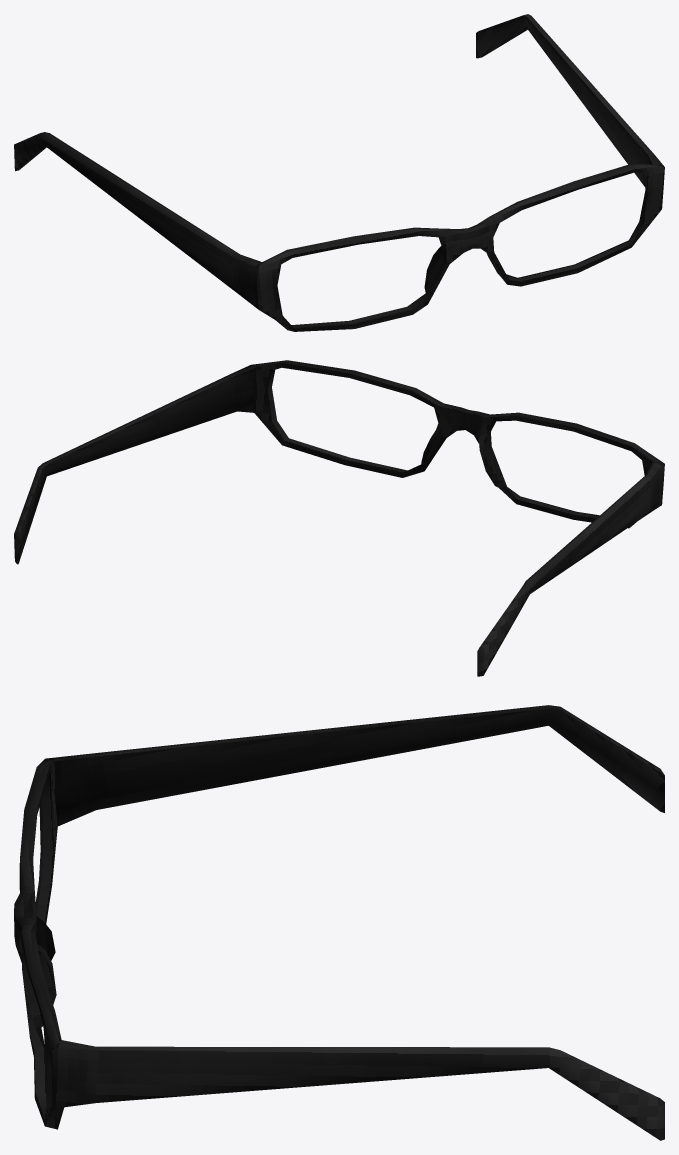
Rendered from B_Q3_M_Acc_0000.DAE.
3 renders of one model, top to bottom at view 1: azimuth 30°, elevation 25°; view 2: azimuth 150°, elevation 25°; view 3: azimuth 270°, elevation 25°, orthographic. The views are drawn at different scales.
Visible parts, largest first — view 1: B_Q3_M_Acc_0000; view 2: B_Q3_M_Acc_0000; view 3: B_Q3_M_Acc_0000.
Boxes of the visible parts, x1,y1,x2,y2 form: B_Q3_M_Acc_0000: (14, 14, 664, 331); B_Q3_M_Acc_0000: (14, 360, 664, 676); B_Q3_M_Acc_0000: (14, 705, 664, 1140).
Size of the model in its own units: 22.01 by 17.46 by 4.17.
